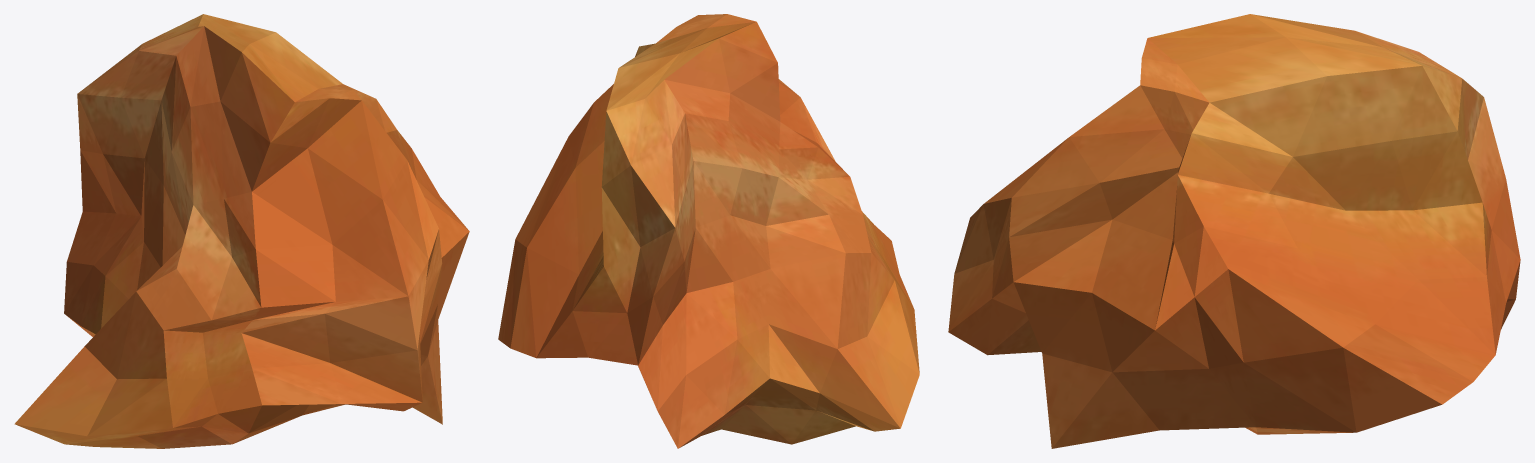
File: rock_000.fbx
The picture shows the model from 3 angles, left to right: view 1: azimuth 30°, elevation 25°; view 2: azimuth 150°, elevation 25°; view 3: azimuth 270°, elevation 25°; orthographic projection. The views are drawn at different scales.
Visible parts, largest first — view 1: Rock; view 2: Rock; view 3: Rock.
Part boxes in pixels (left/top/right/bottom): Rock: left=14, top=14, right=469, bottom=448; Rock: left=498, top=14, right=919, bottom=448; Rock: left=948, top=14, right=1520, bottom=448.
Size of the model in its own units: 299 by 274 by 337.
